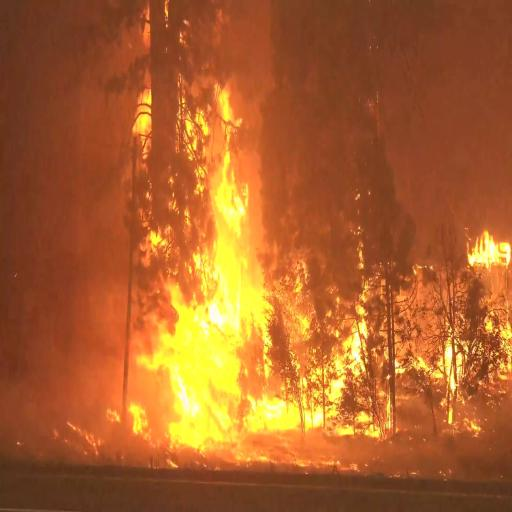fire: (148, 91, 266, 439), (254, 273, 380, 450), (473, 222, 512, 299)
